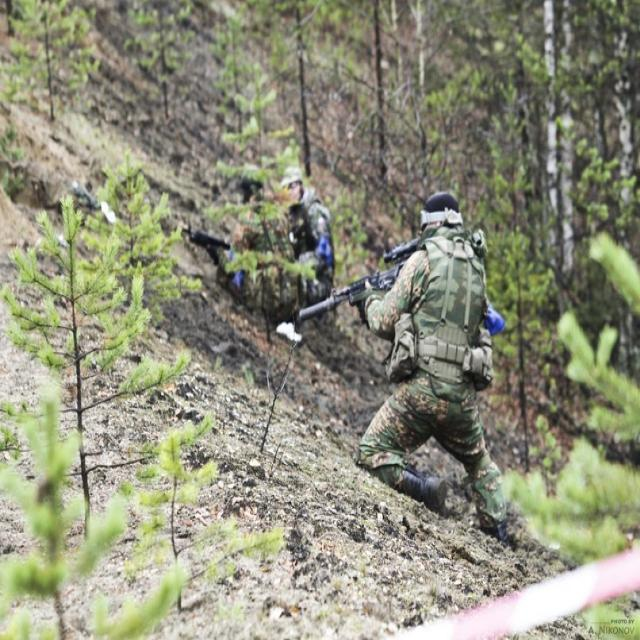firearm: (299, 239, 420, 320)
